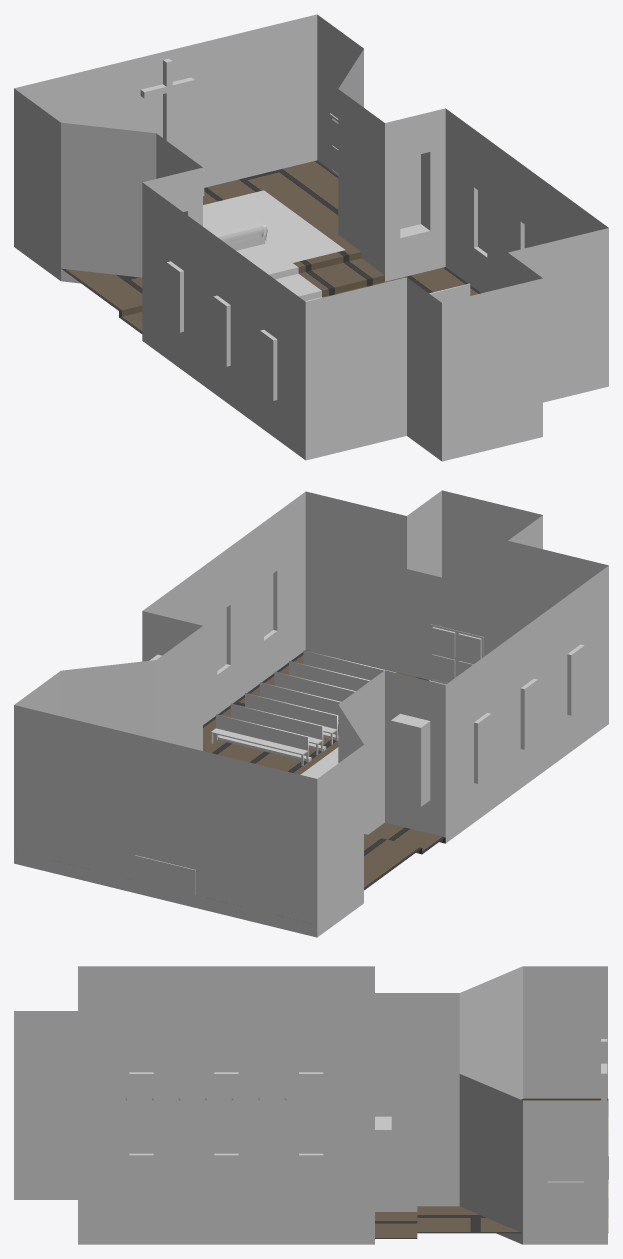
Rendered from Igreja_Interior.fbx.
3 renders of one model, top to bottom at view 1: azimuth 30°, elevation 25°; view 2: azimuth 150°, elevation 25°; view 3: azimuth 270°, elevation 25°, orthographic. The views are drawn at different scales.
Visible parts, largest first — view 1: Box001, wall02, floor, Plane002, windows, Box004, Plane001, floor02; view 2: Box001, wall02, Door_Structure, floor, windows, Box021, Door001, Box007, Box032, Box027, Box031, Box030 (+2 smaller); view 3: wall02, Box001, windows, floor, Door002, Box004.
Part boxes in pixels (box(x1,y1,x2,y2)): Box001: box(14, 14, 608, 461); wall02: box(14, 14, 608, 461); floor: box(61, 160, 480, 333); Plane002: box(203, 190, 344, 301); windows: box(166, 190, 533, 400); Box004: box(140, 58, 194, 144); Plane001: box(205, 216, 267, 245); floor02: box(119, 252, 384, 317); Box001: box(14, 490, 608, 937); wall02: box(14, 490, 608, 937); Door_Structure: box(407, 569, 507, 680); floor: box(203, 650, 444, 890); windows: box(217, 574, 584, 783); Box021: box(211, 714, 311, 765); Door001: box(430, 624, 483, 684); Box007: box(135, 855, 195, 895); Box032: box(230, 703, 326, 755); Box027: box(245, 693, 338, 744); Box031: box(259, 682, 340, 726); Box030: box(303, 650, 395, 680); wall02: box(14, 966, 607, 1244); Box001: box(129, 966, 522, 1244); windows: box(129, 1019, 323, 1210); floor: box(375, 1098, 608, 1238); Door002: box(547, 1181, 583, 1233); Box004: box(601, 1039, 607, 1100).
Bounding box in the file's own units: 15.4 × 7.5 × 28.05.
